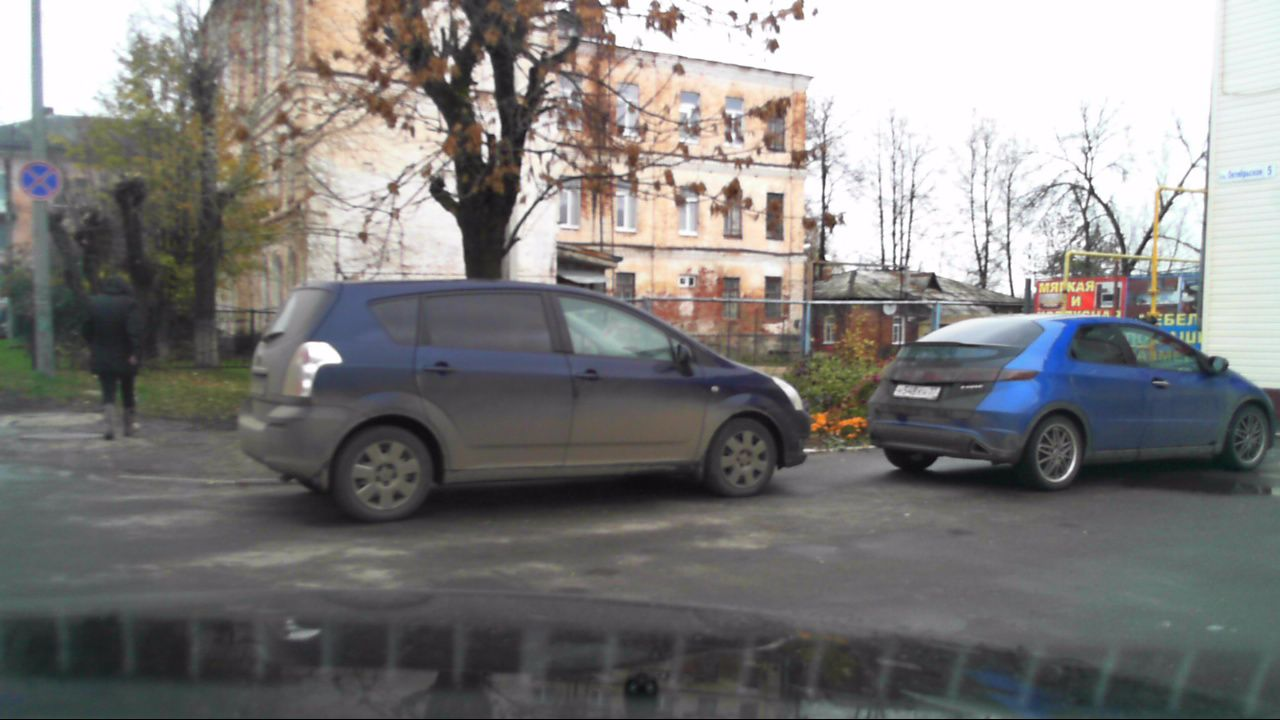No Parking: (18, 157, 62, 200)
